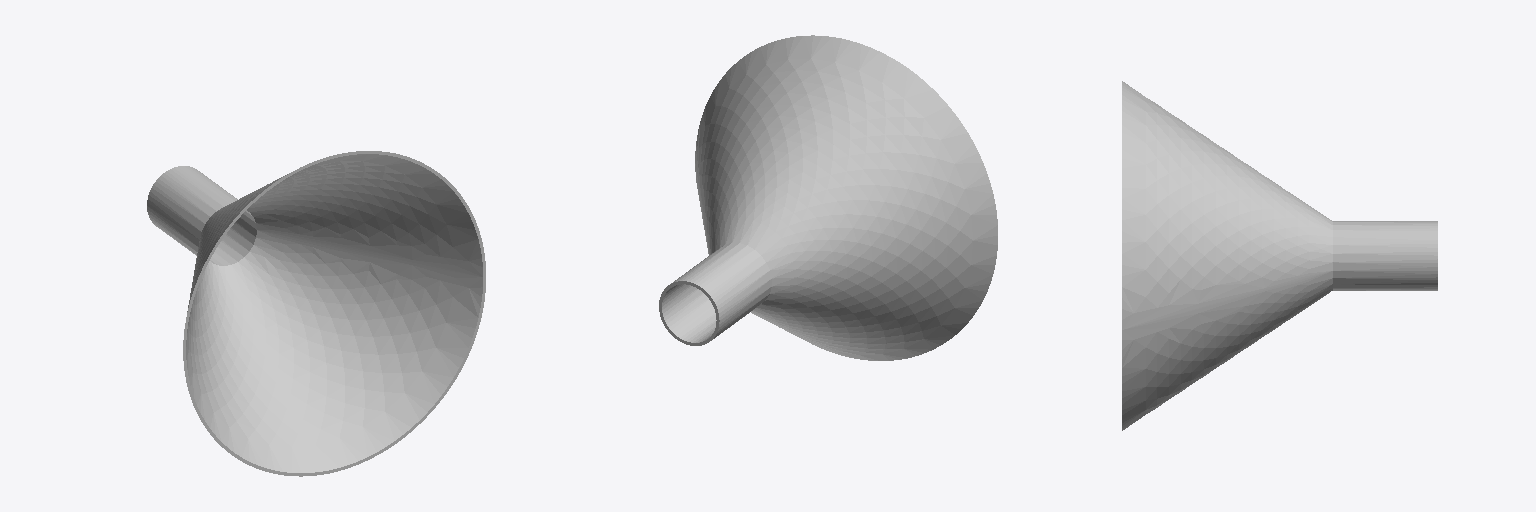
The model's file is funnel.obj.
3 views of the same model, side by side, from view 1: azimuth 30°, elevation 25°; view 2: azimuth 150°, elevation 25°; view 3: azimuth 270°, elevation 25° (orthographic).
Bounding box in the file's own units: 50 × 49.97 × 45.